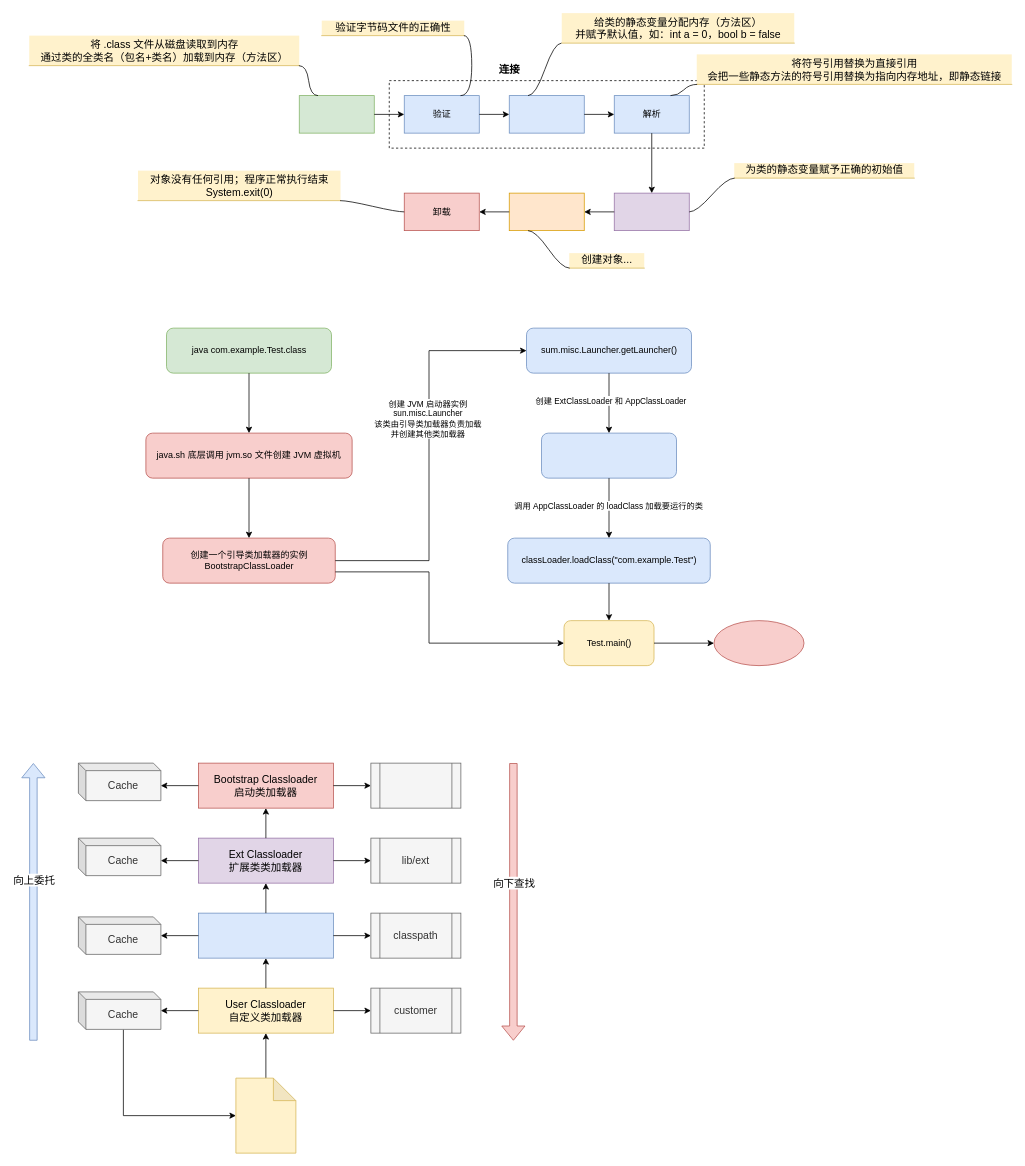
This 1025x1166 diagram has some shape labels left out. The centre of each missing label's shape, as x and y in pixels:
"App Classloader 应用程序类加载器" goes at point 265,935.
"JVM 销毁" goes at point 758,643.
"launcher.getClassLoader()" goes at point 608,455.
"lib" goes at point 415,785.
"xxx.class" goes at point 265,1115.
"使用" goes at point 546,211.
"准备" goes at point 546,114.
"初始化" goes at point 651,211.
"加载" goes at point 336,114.
